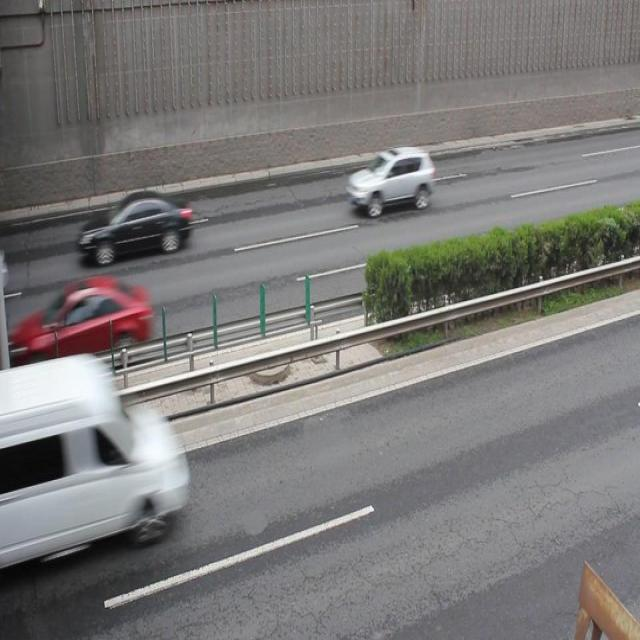car: (30, 277, 150, 363), (79, 192, 192, 262), (348, 150, 433, 216)
truck: (1, 360, 183, 570)
